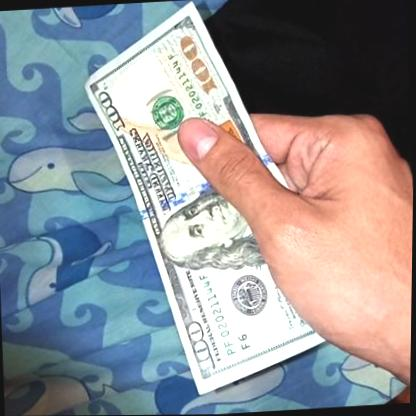one_hundred-front: (76, 0, 324, 392)
